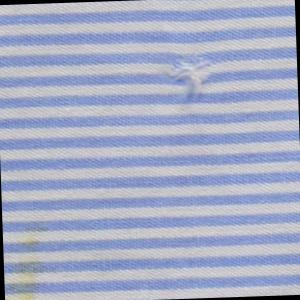Damage: (167, 51, 218, 106)
Stain: (4, 222, 48, 300)
